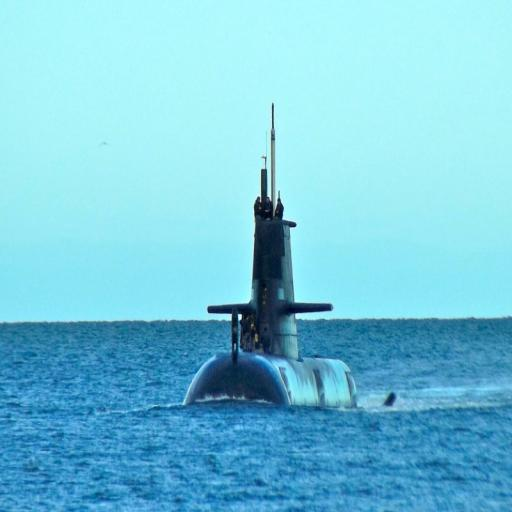submarine: (182, 220, 399, 409)
